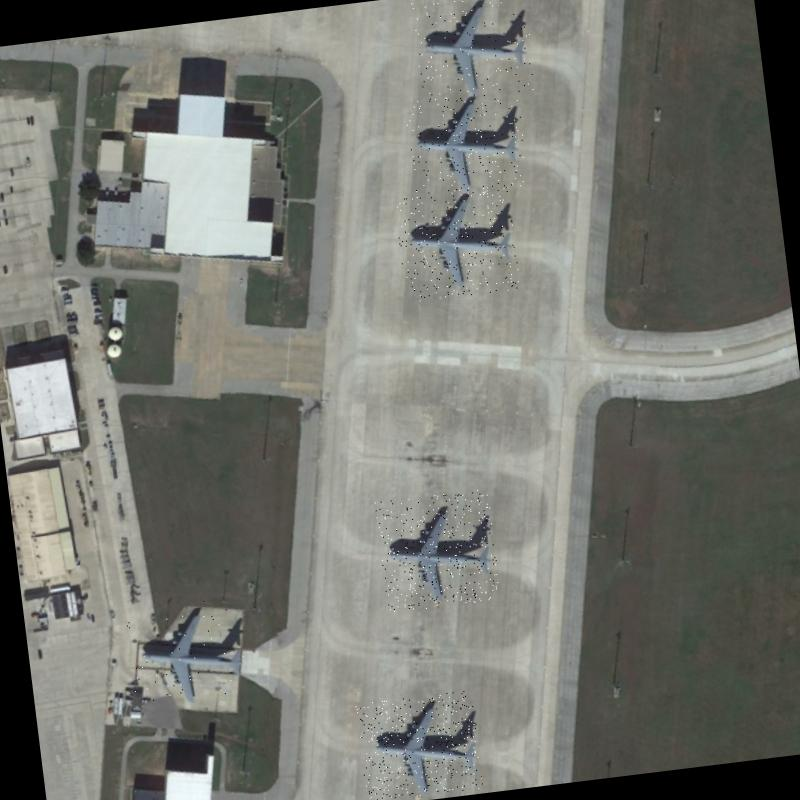A4: (374, 488, 501, 613), (394, 185, 520, 302), (403, 88, 530, 202), (123, 596, 250, 710), (355, 689, 483, 800), (410, 0, 538, 103)
